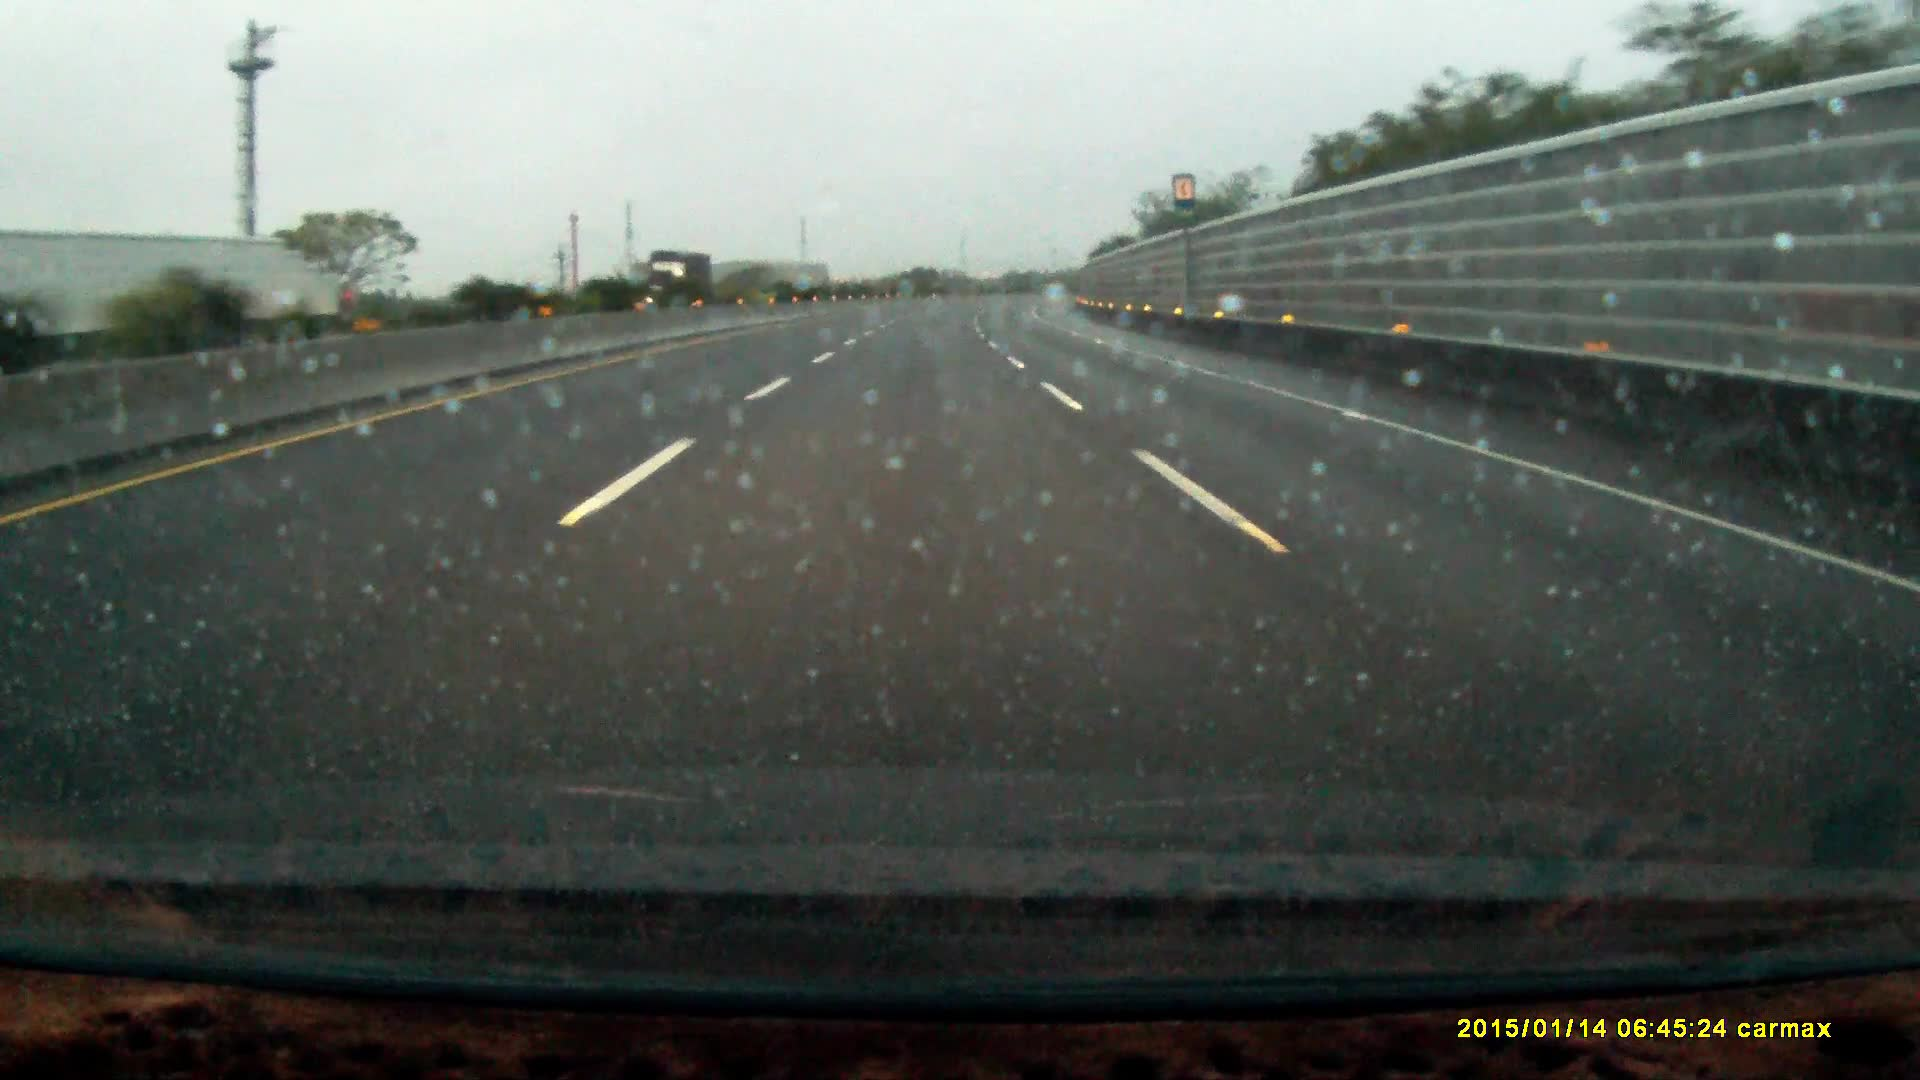vehicle: (647, 251, 716, 307)
